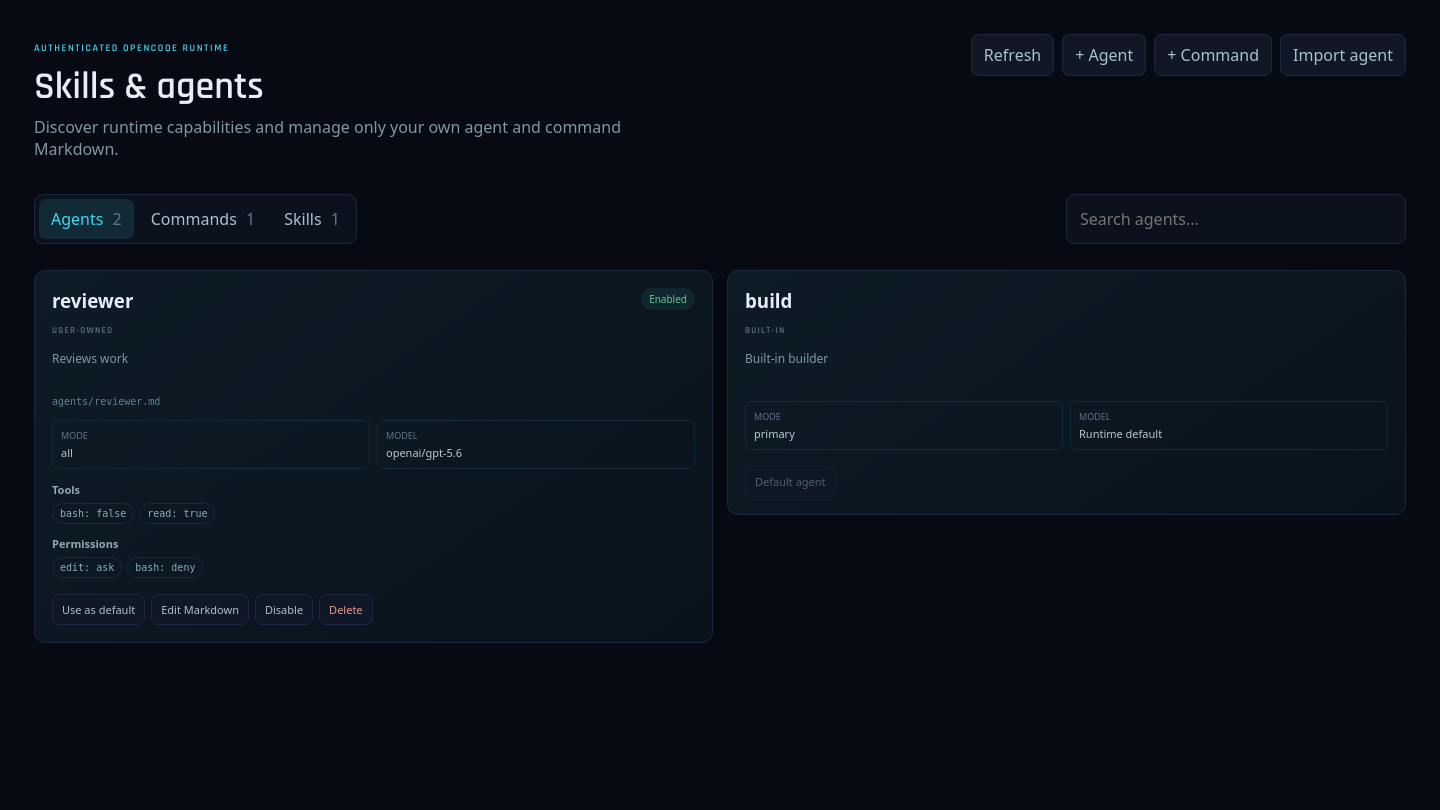
Skills & Agents workspace › keeps a rejected save visible inside the open editor
Check: the heading "reviewer" is shown, box top-left (52, 288), bottom-right (133, 313)
Click the button "+ Agent" at {"x": 1104, "y": 55}, box top-left (1062, 34), bottom-right (1146, 76)
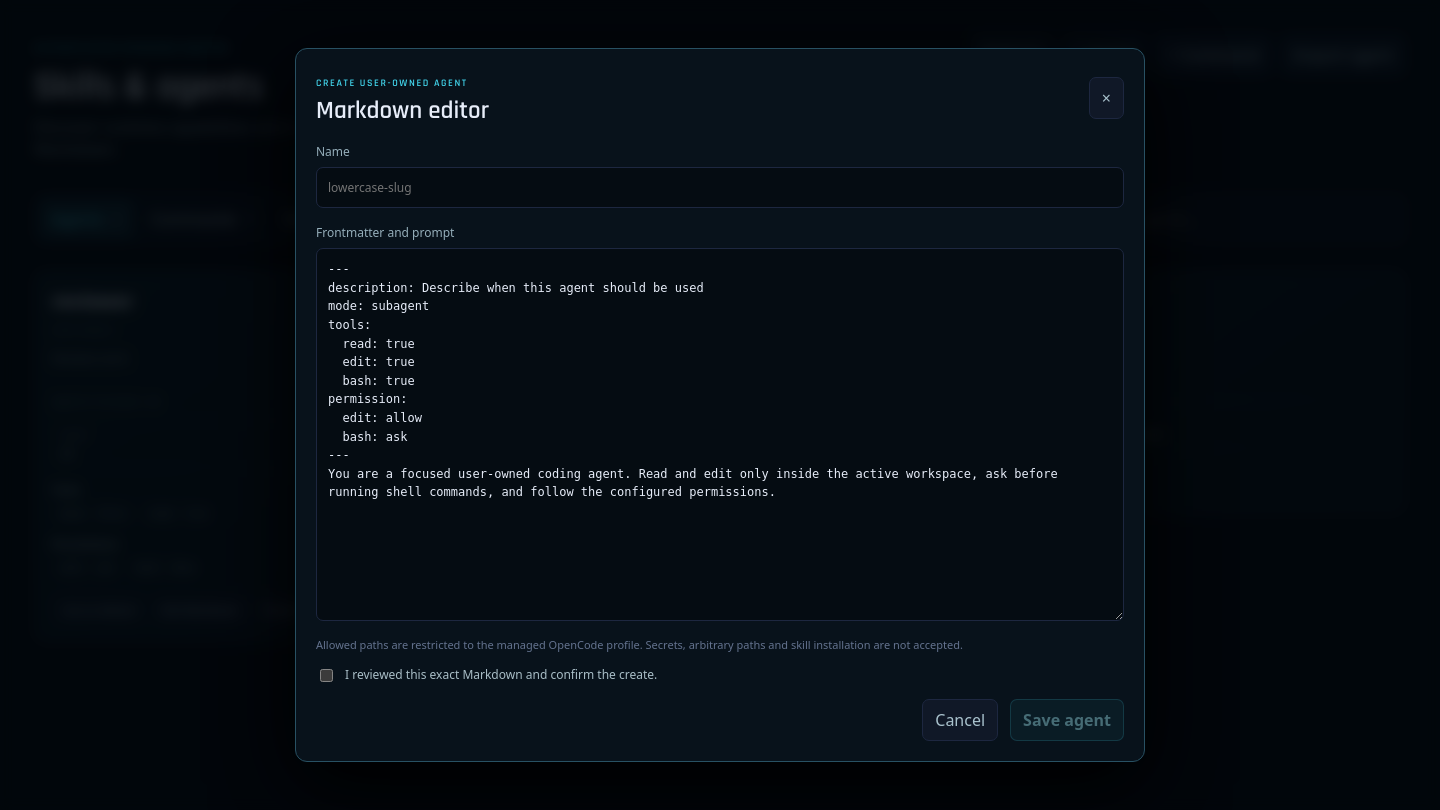
Type "security-review" into the field named "Document name" at {"x": 720, "y": 188}, box top-left (316, 167), bottom-right (1124, 208)
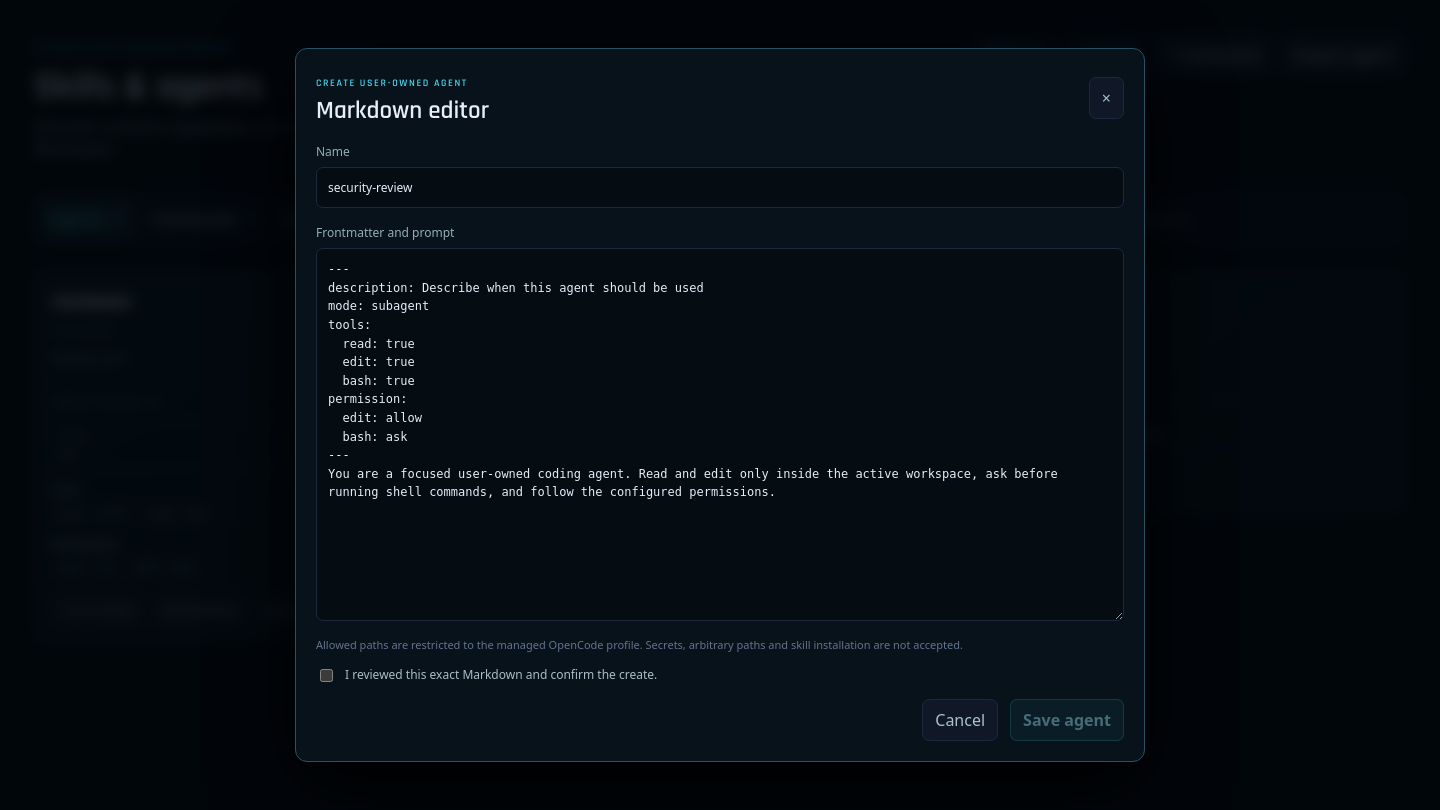
Click the checkbox labelled "I reviewed this exact Markdown and confirm the create." at {"x": 326, "y": 675}, box top-left (320, 669), bottom-right (333, 682)
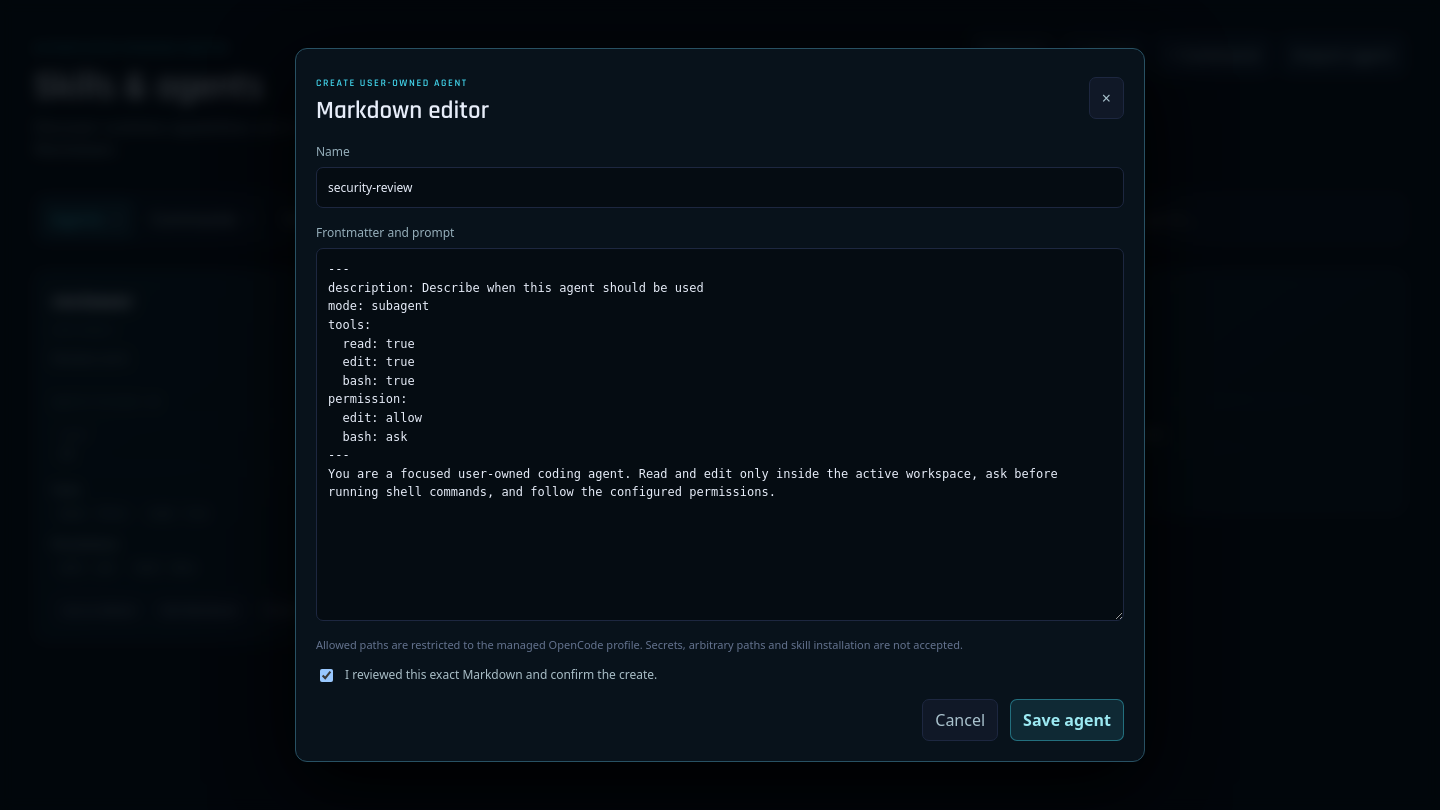
Click the button "Save agent" at {"x": 1067, "y": 720}, box top-left (1010, 699), bottom-right (1124, 741)
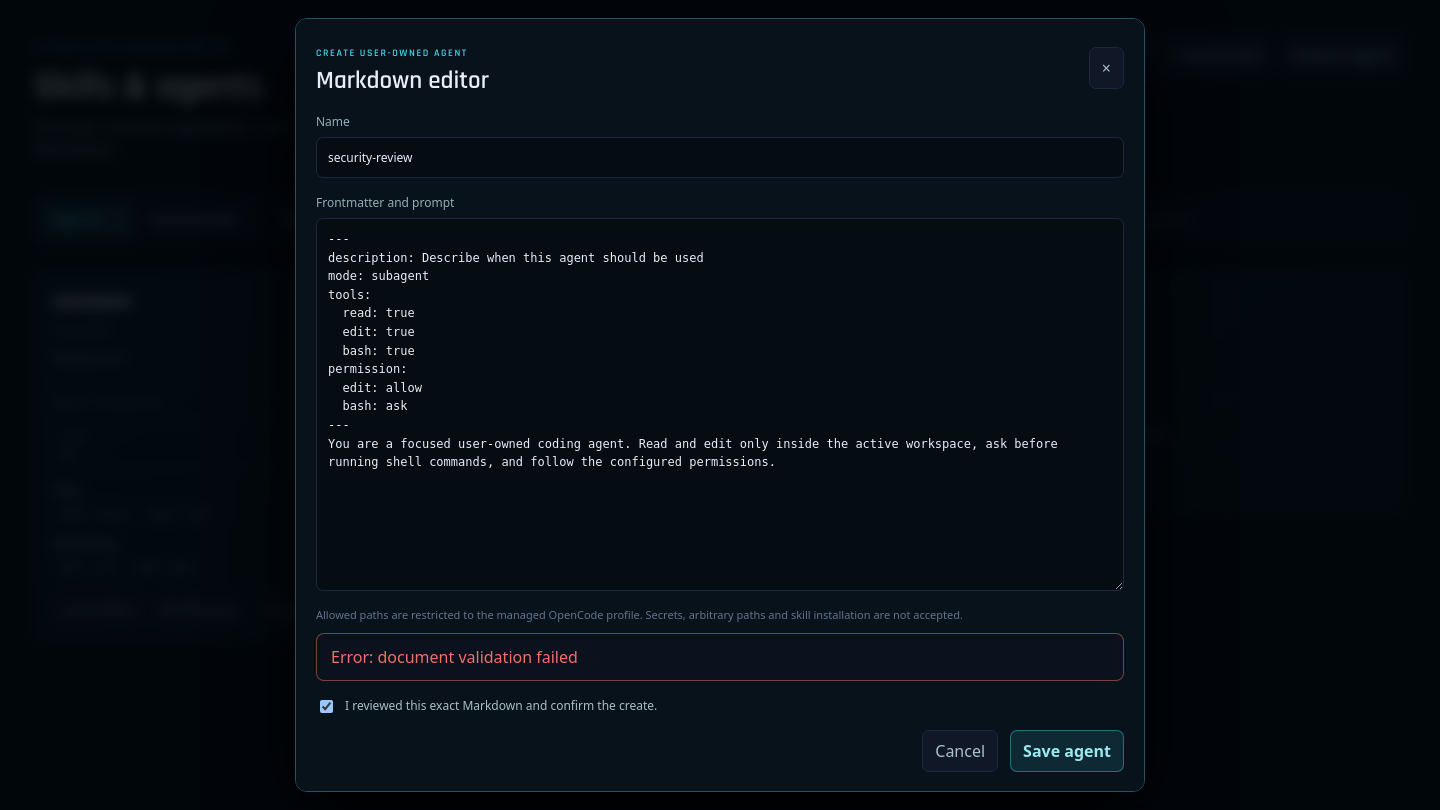
Check: the dialog is shown, box top-left (295, 18), bottom-right (1145, 792)
Check: the message shows "document validation failed", box top-left (331, 646), bottom-right (578, 668)
